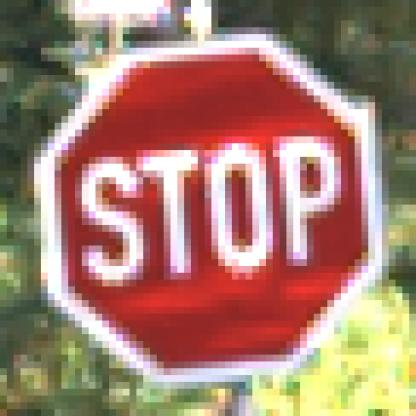Stop: (40, 43, 381, 372)
